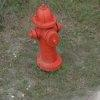a fire hydrant: (32, 6, 64, 71)
